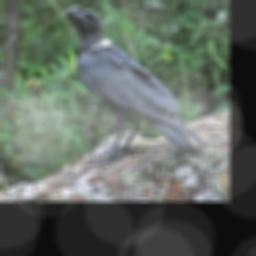Crow: (60, 3, 208, 166)
